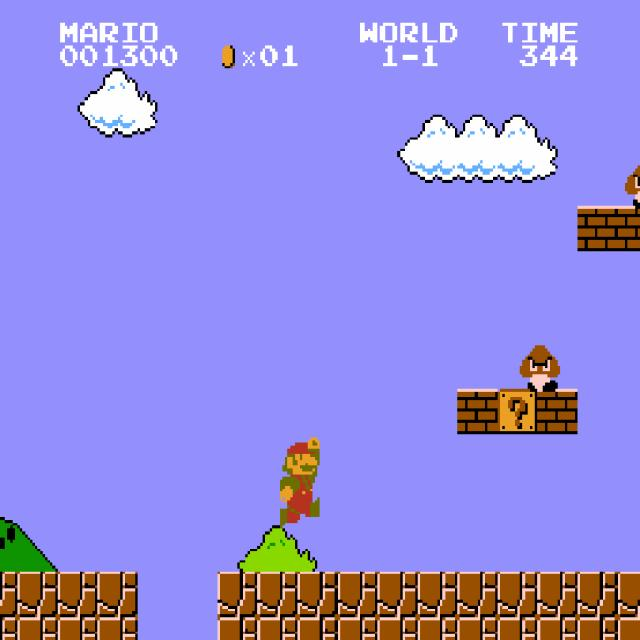big_mario: (277, 434, 320, 528)
brick_block: (457, 389, 498, 434), (537, 389, 578, 434), (577, 206, 618, 251), (618, 206, 640, 251)
goomba: (517, 343, 560, 391), (622, 159, 640, 208)
mystery_block: (497, 389, 538, 434)
undestructible_block: (17, 572, 58, 617), (57, 572, 98, 617), (97, 572, 138, 617), (217, 572, 258, 617), (257, 572, 298, 617), (297, 572, 338, 617), (337, 572, 378, 617), (377, 572, 418, 617), (417, 572, 458, 617), (457, 572, 498, 617), (497, 572, 538, 617), (537, 572, 578, 617), (577, 572, 618, 617), (618, 572, 640, 617), (17, 617, 58, 640), (57, 617, 98, 640), (97, 617, 138, 640), (217, 617, 258, 640), (257, 617, 298, 640), (297, 617, 338, 640), (337, 617, 378, 640), (377, 617, 418, 640), (417, 617, 458, 640), (457, 617, 498, 640), (497, 617, 538, 640), (537, 617, 578, 640), (577, 617, 618, 640), (0, 571, 17, 617), (618, 617, 640, 640), (0, 617, 17, 639)
